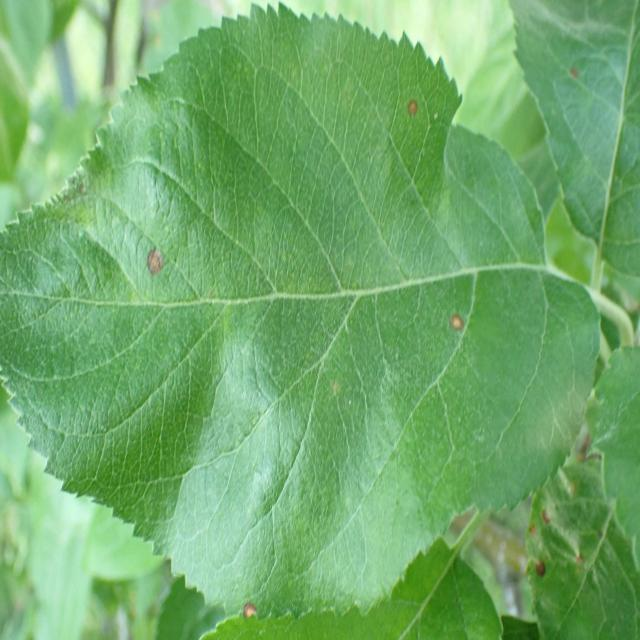frog-eye-leaf-spot: (1, 2, 600, 624)
